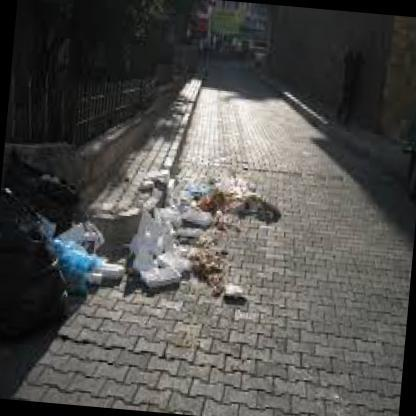Garbage: (40, 244, 102, 296), (218, 184, 277, 238), (181, 166, 232, 218), (201, 223, 232, 304), (255, 202, 293, 230), (198, 253, 232, 279)
